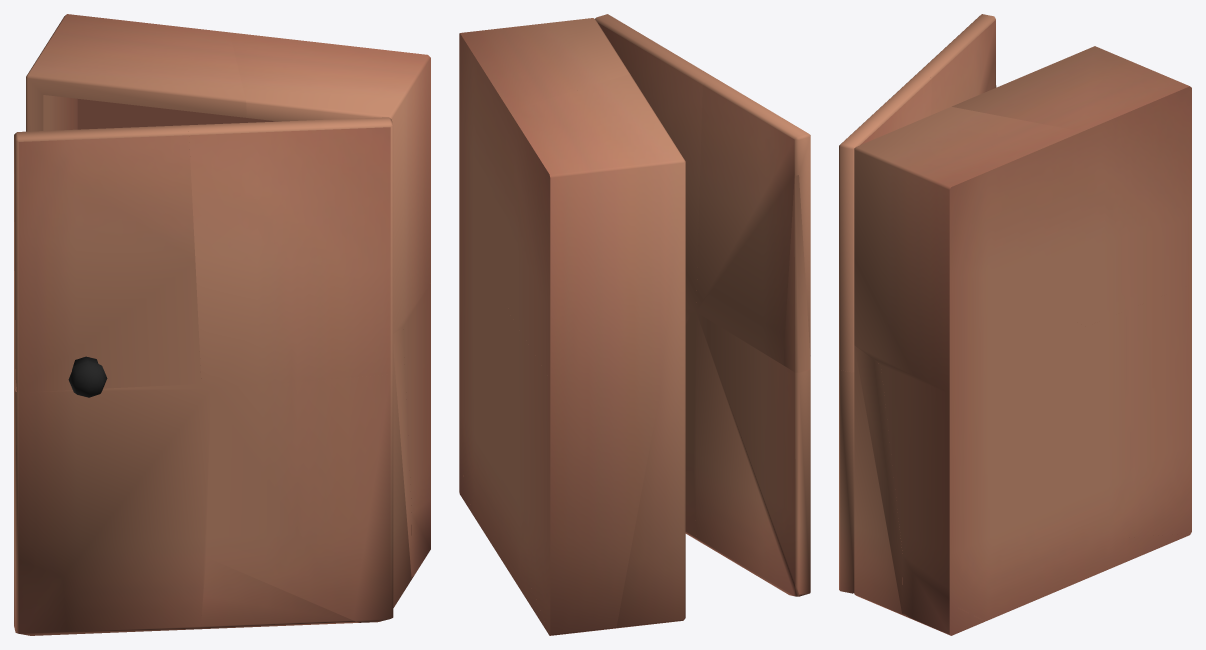
File: Closet.fbx
3 renders of one model, left to right at view 1: azimuth 30°, elevation 25°; view 2: azimuth 150°, elevation 25°; view 3: azimuth 270°, elevation 25°, orthographic. The views are drawn at different scales.
Parts seen in each view (by area): view 1: Closet.003_cell.007, Closet.003_cell.005, Closet.003_cell.001, Closet.003_cell.006, Closet.002_cell.007, Closet.002_cell.003, Closet.003_cell.003, Closet.002_cell.002, Closet.002_cell.005, Closet.004, Closet.002_cell.004; view 2: Closet.002_cell.003, Closet.002_cell.001, Closet.003_cell.005, Closet.003_cell.001, Closet.002_cell.007, Closet.002_cell.002, Closet.002_cell.006, Closet.003_cell.007, Closet.003_cell.002, Closet.003_cell.006, Closet.002_cell.009, Closet.003_cell.003; view 3: Closet.002_cell.007, Closet.002_cell.002, Closet.002_cell.003, Closet.002_cell.001, Closet.002_cell.005, Closet.003_cell.007, Closet.003_cell.001, Closet.003_cell.006, Closet.002_cell.004, Closet.002_cell.009, Closet.002_cell.008.
Part boxes in pixels (left/top/right/bottom): Closet.003_cell.007: left=188, top=117, right=393, bottom=389; Closet.003_cell.005: left=14, top=384, right=211, bottom=635; Closet.003_cell.001: left=14, top=125, right=201, bottom=392; Closet.003_cell.006: left=206, top=373, right=393, bottom=622; Closet.002_cell.007: left=229, top=32, right=430, bottom=333; Closet.002_cell.003: left=26, top=14, right=246, bottom=131; Closet.003_cell.003: left=200, top=557, right=359, bottom=629; Closet.002_cell.002: left=403, top=283, right=430, bottom=513; Closet.002_cell.005: left=393, top=327, right=411, bottom=607; Closet.004: left=68, top=356, right=107, bottom=397; Closet.002_cell.004: left=411, top=499, right=430, bottom=576; Closet.002_cell.003: left=507, top=74, right=685, bottom=395; Closet.002_cell.001: left=508, top=315, right=659, bottom=635; Closet.003_cell.005: left=691, top=312, right=810, bottom=596; Closet.003_cell.001: left=696, top=79, right=810, bottom=368; Closet.002_cell.007: left=459, top=18, right=630, bottom=300; Closet.002_cell.002: left=459, top=244, right=510, bottom=568; Closet.002_cell.006: left=616, top=391, right=685, bottom=628; Closet.003_cell.007: left=595, top=14, right=715, bottom=313; Closet.003_cell.002: left=783, top=175, right=810, bottom=372; Closet.003_cell.006: left=685, top=311, right=693, bottom=471; Closet.002_cell.009: left=507, top=530, right=551, bottom=635; Closet.003_cell.003: left=685, top=470, right=696, bottom=539; Closet.002_cell.007: left=854, top=106, right=1082, bottom=393; Closet.002_cell.002: left=881, top=323, right=1086, bottom=621; Closet.002_cell.003: left=952, top=46, right=1191, bottom=326; Closet.002_cell.001: left=1081, top=284, right=1191, bottom=540; Closet.002_cell.005: left=854, top=345, right=903, bottom=615; Closet.003_cell.007: left=839, top=73, right=931, bottom=372; Closet.003_cell.001: left=917, top=14, right=995, bottom=114; Closet.003_cell.006: left=839, top=369, right=854, bottom=593; Closet.002_cell.004: left=902, top=556, right=957, bottom=635; Closet.002_cell.009: left=1077, top=533, right=1190, bottom=582; Closet.002_cell.008: left=902, top=608, right=984, bottom=635.
Size of the model in its own units: 1.91 by 2.24 by 2.69.
